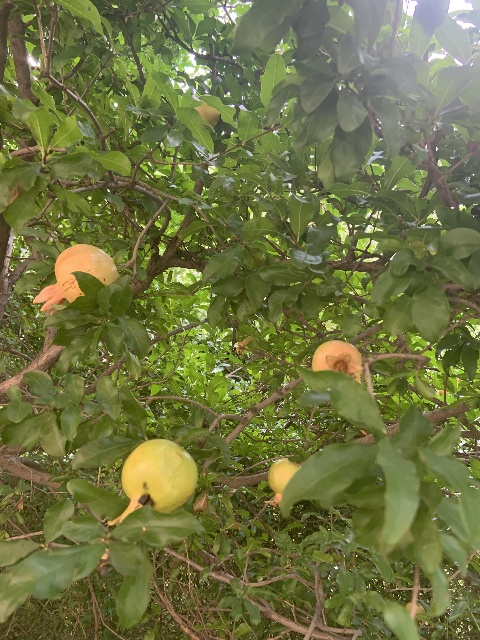early-fruit: (311, 340, 366, 383)
mid-growth: (107, 438, 197, 525), (32, 243, 118, 313), (263, 458, 302, 505), (194, 93, 220, 128), (234, 336, 254, 353)
